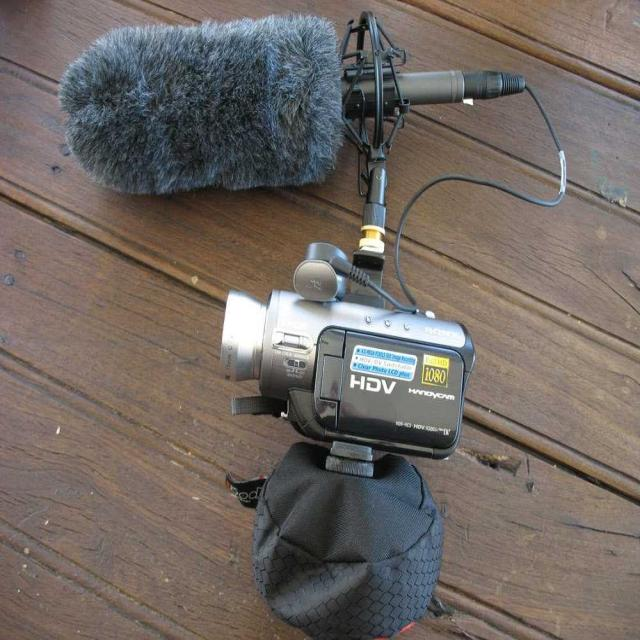microphone: (55, 12, 559, 187)
